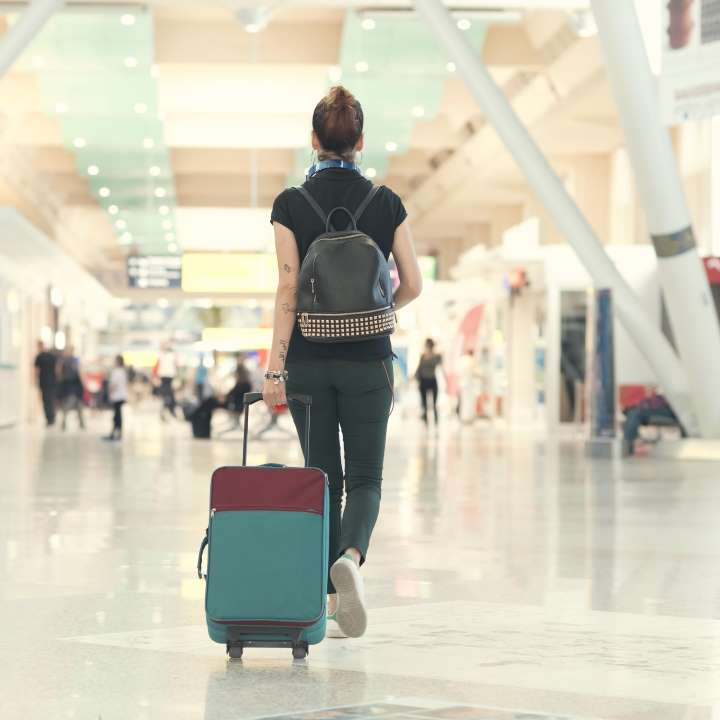backpack: (280, 186, 407, 360)
luggage: (201, 398, 327, 655)
